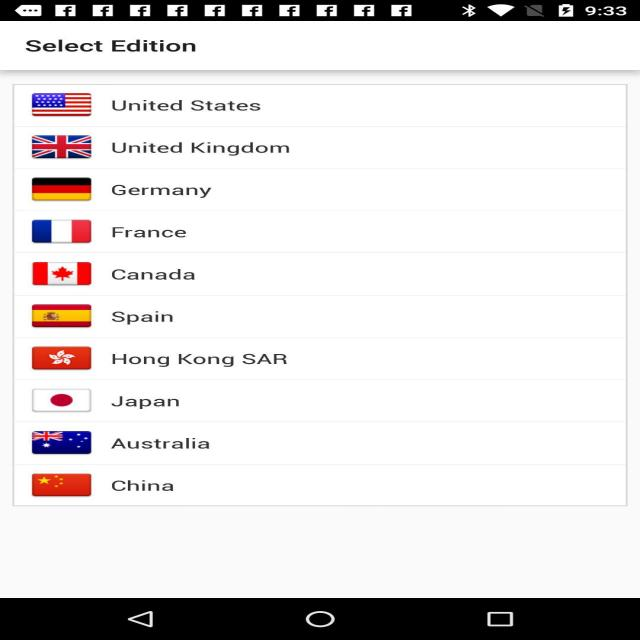button: (2, 81, 626, 507)
image: (18, 90, 105, 504)
text: (103, 95, 398, 503), (24, 34, 230, 58)
